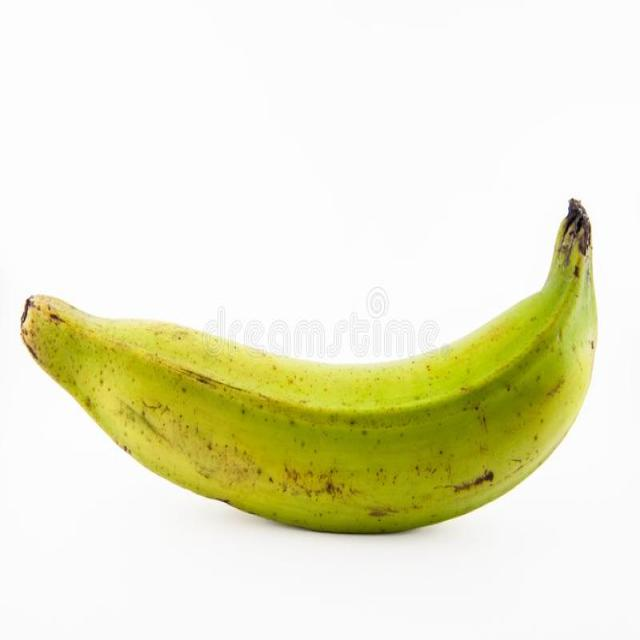non_orange: (24, 199, 602, 539)
